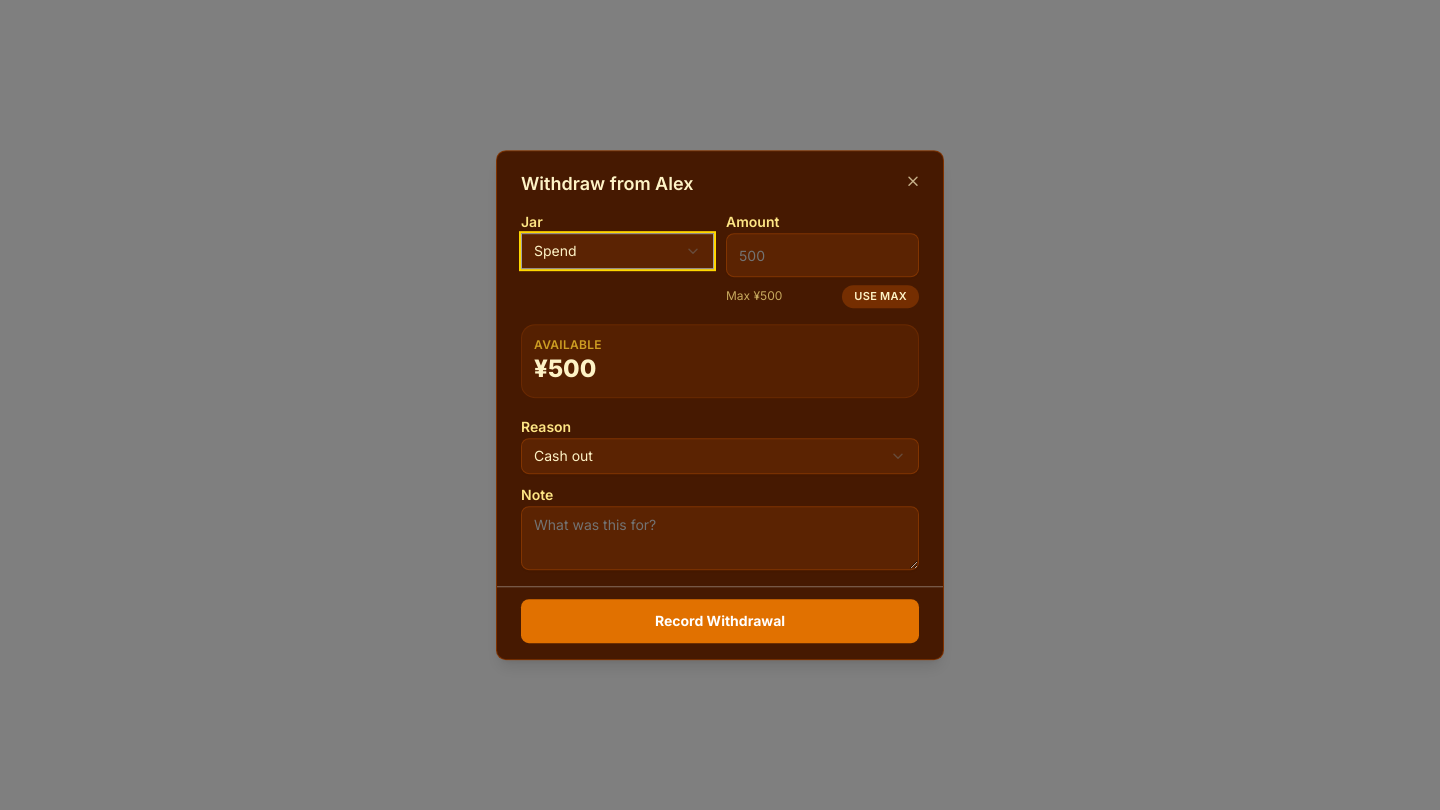
Test: WithdrawalDialogBody — S4 (R4) inline max helper (F10 5.16) › clicking 'Use max' sets the amount input to the jar balance
expect the number field with test id "withdraw-amount-input" is empty: met, box [726,233,919,277]
Click the button with test id "withdraw-use-max" at (881, 297), box [842,285,919,308]
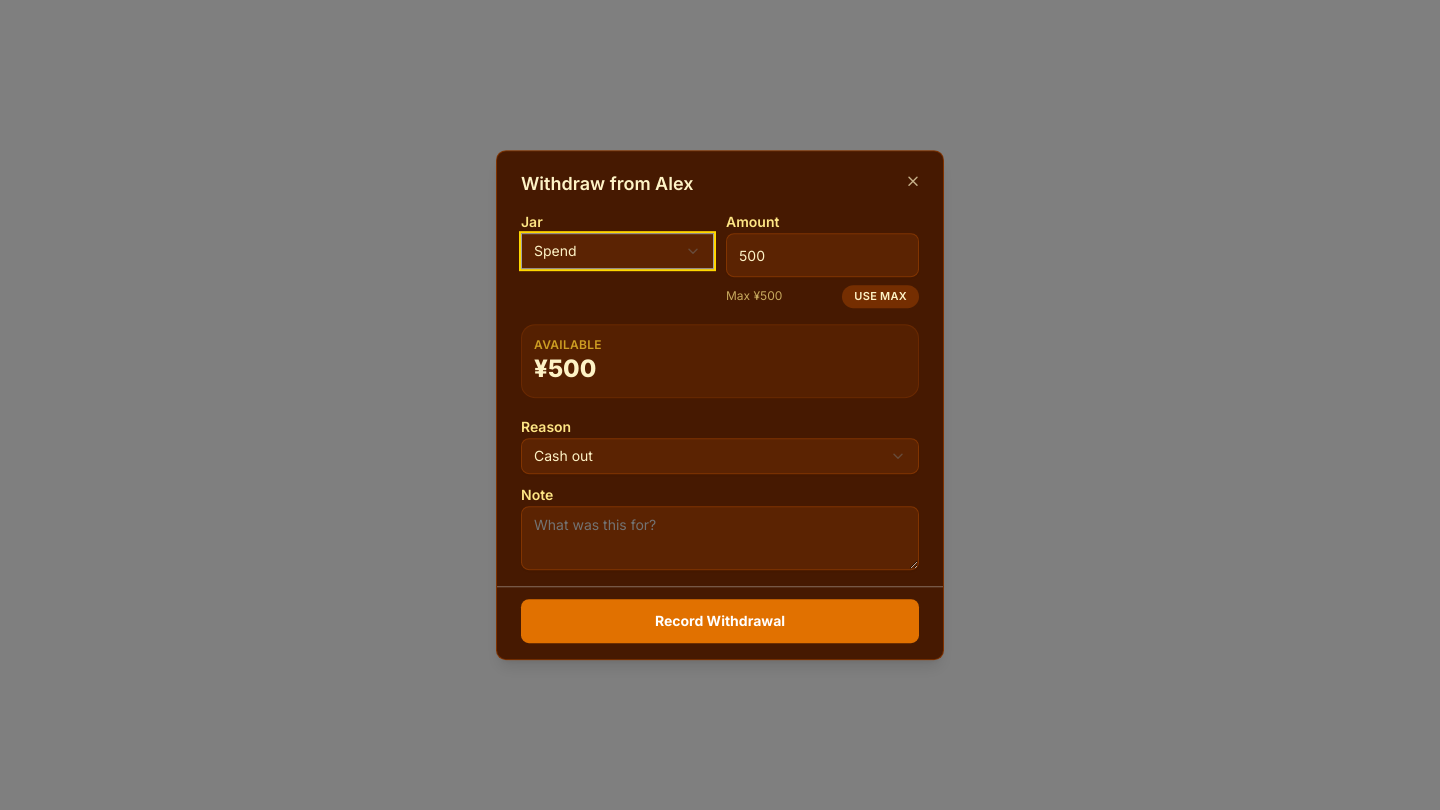
expect the number field with test id "withdraw-amount-input" holds "500": met, box [726,233,919,277]
